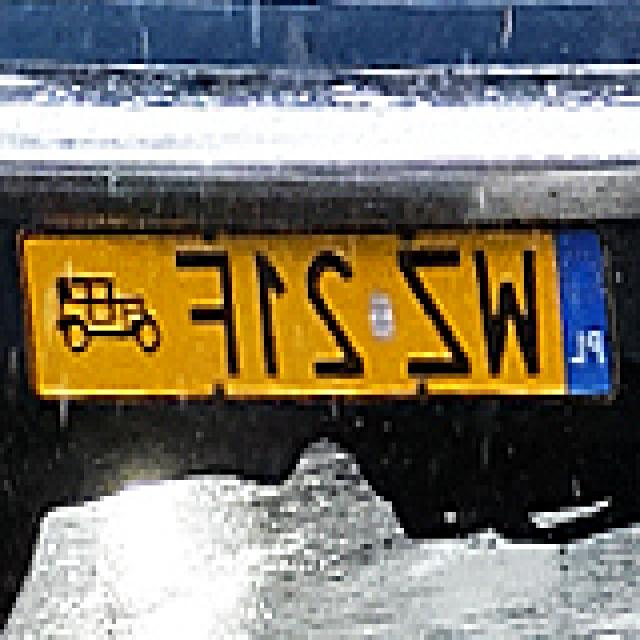pl_license_plate: (24, 224, 612, 389)
